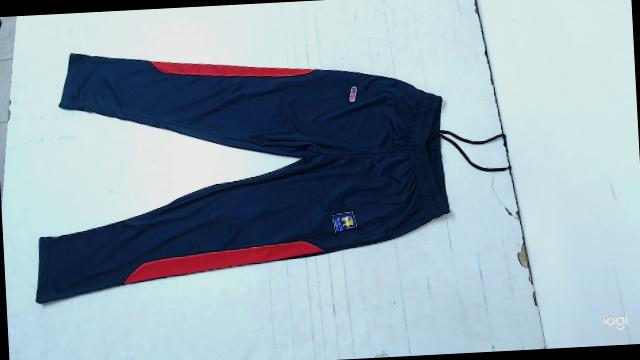new-garment: (36, 53, 450, 302)
